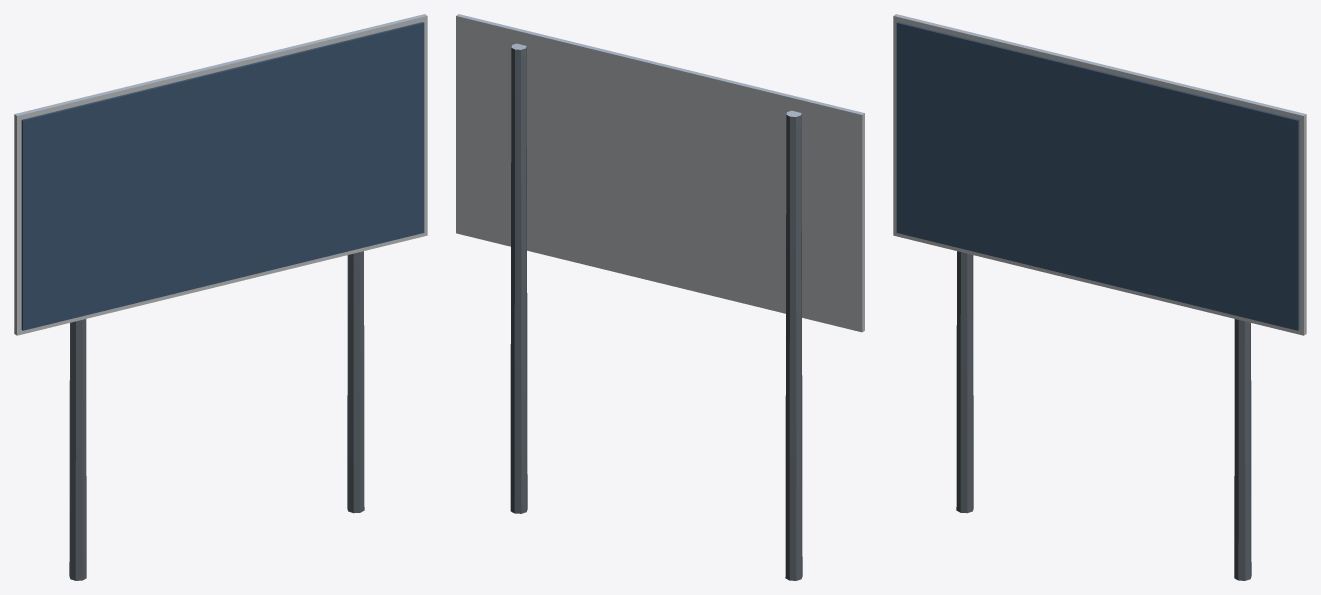
Rendered from sign_direction.glb.
The picture shows the model from 3 angles, left to right: view 1: azimuth 30°, elevation 25°; view 2: azimuth 150°, elevation 25°; view 3: azimuth 330°, elevation 25°; orthographic projection.
Visible parts, largest first — view 1: Panel, Prop; view 2: Prop; view 3: Panel, Prop.
Boxes of the visible parts, bbox=[...] form: Panel: bbox=[21, 22, 424, 330]; Prop: bbox=[14, 14, 427, 580]; Prop: bbox=[456, 14, 864, 580]; Panel: bbox=[896, 22, 1299, 330]; Prop: bbox=[893, 14, 1306, 580].
Size of the model in its own units: 2.66 by 2.98 by 0.125.
